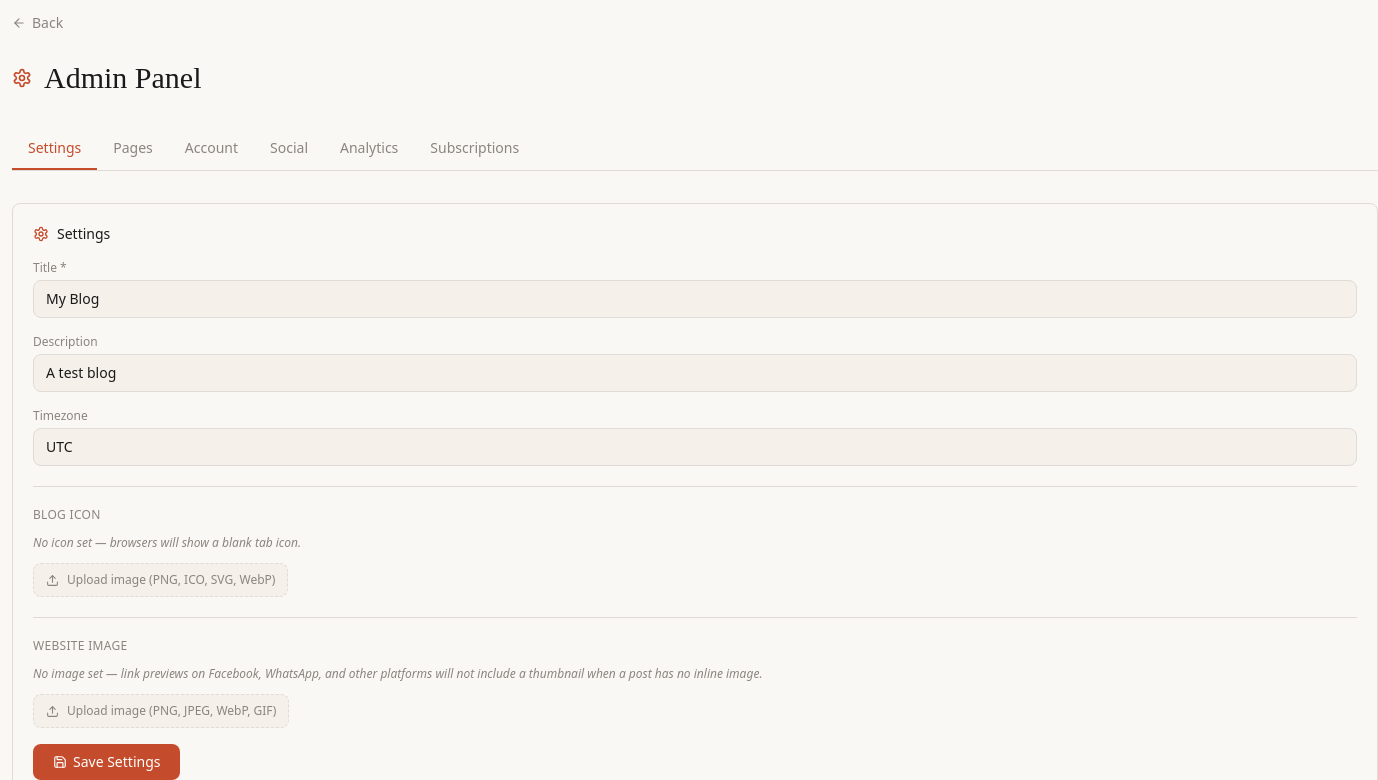
Test: AdminPage › saves site settings successfully
Replace the text in the field labelled "Title *" with "New Title" at [695, 299], box [33,280,1357,318]
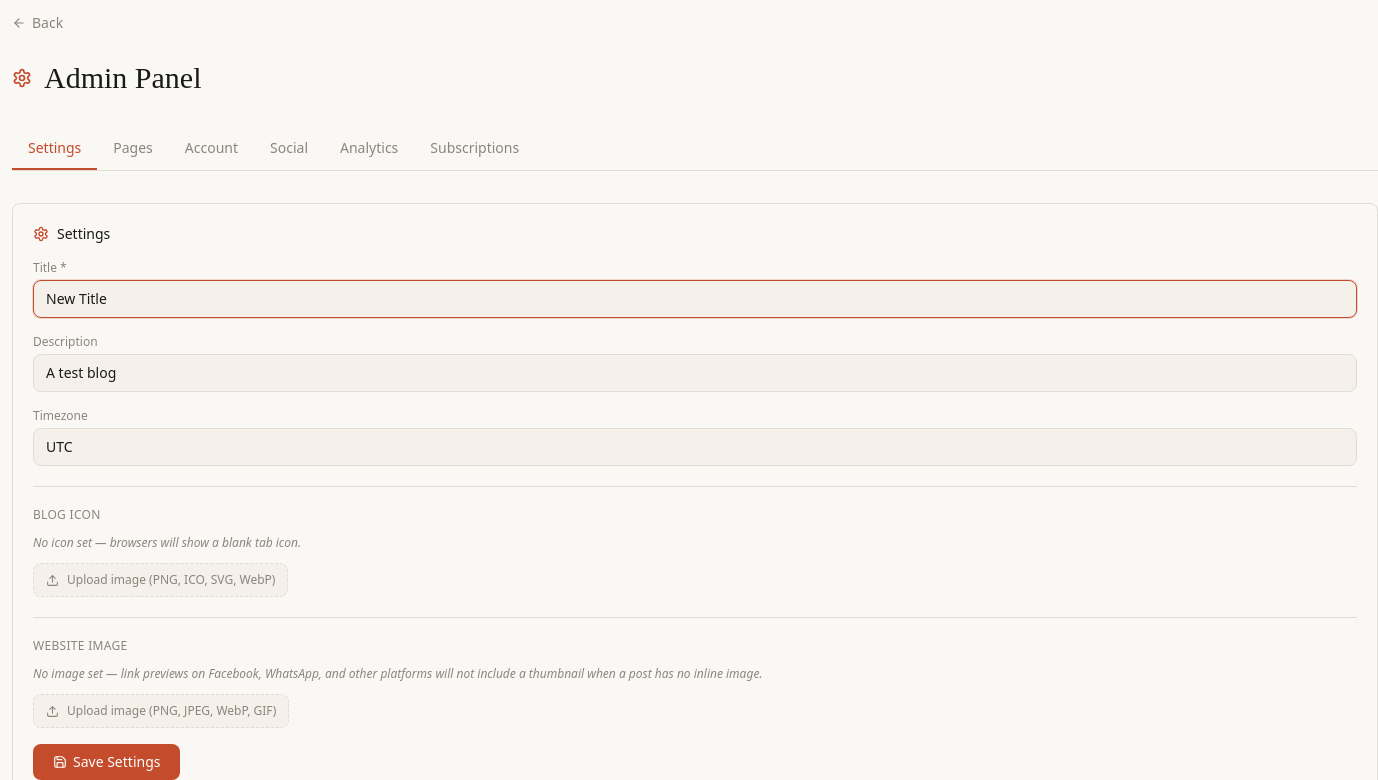
Click the button "Save Settings" at [107, 762], box [33,744,180,779]
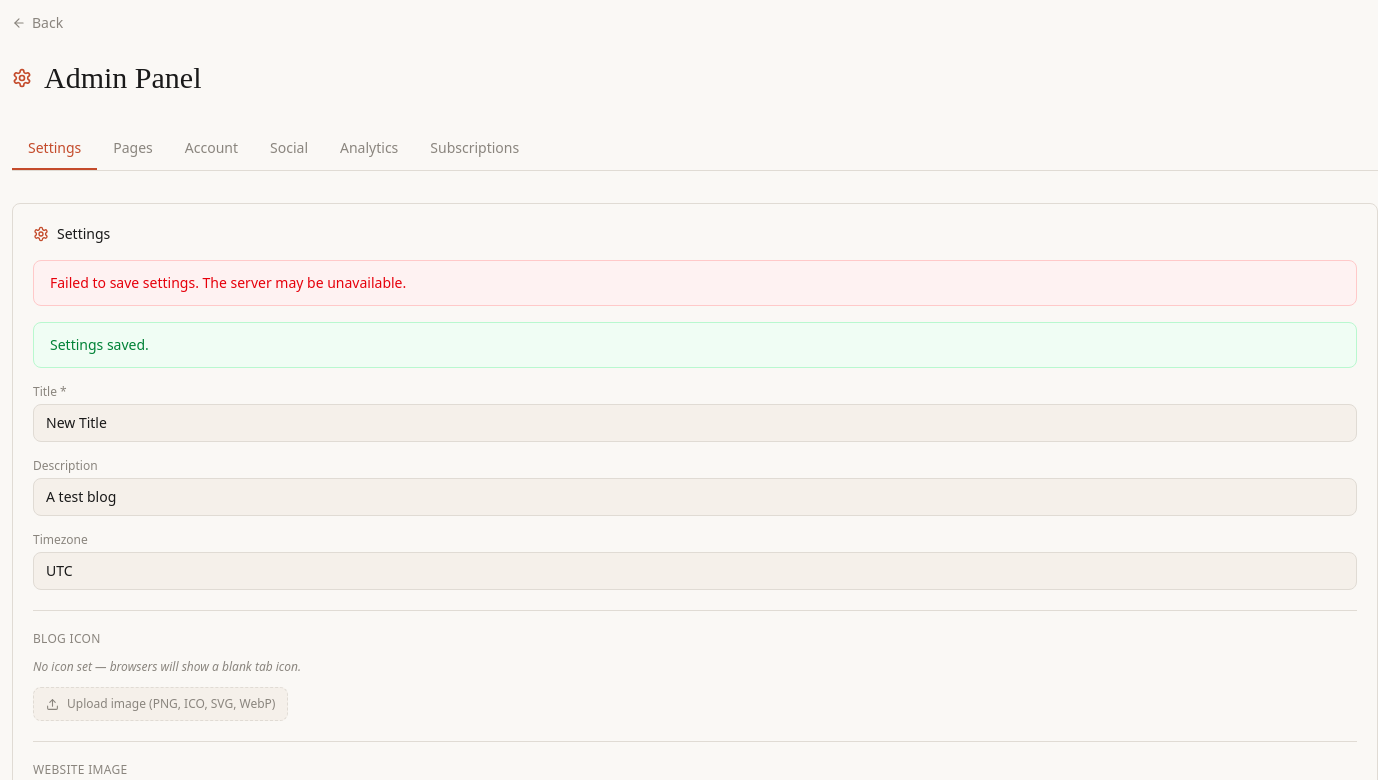
Check: the text "Settings saved." is shown, box [33,322,1357,368]
